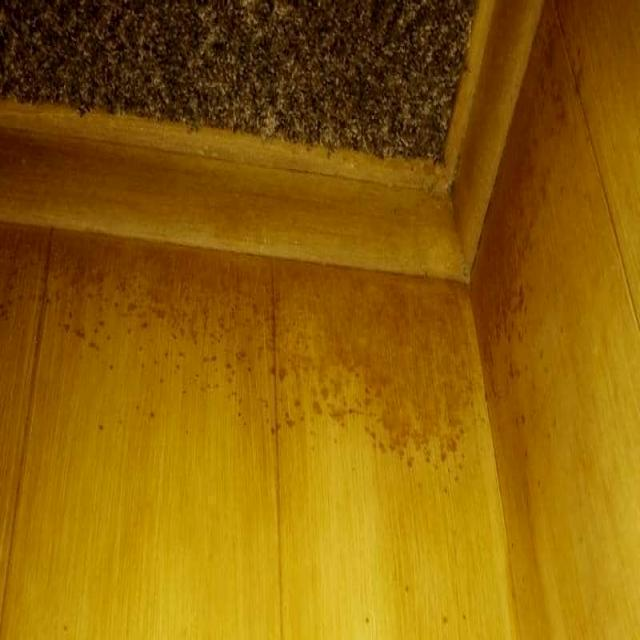dampness: (5, 0, 478, 182)
